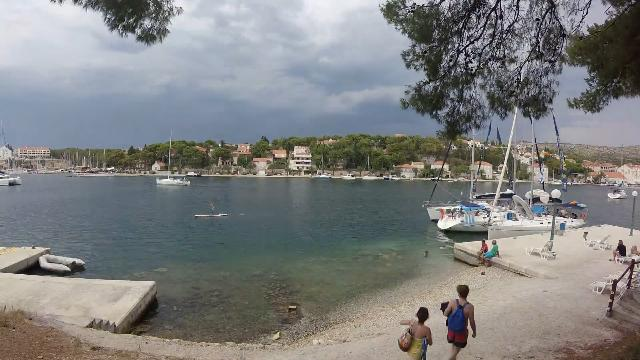Freighter: (64, 161, 124, 179)
Sailboat: (154, 174, 196, 188)
